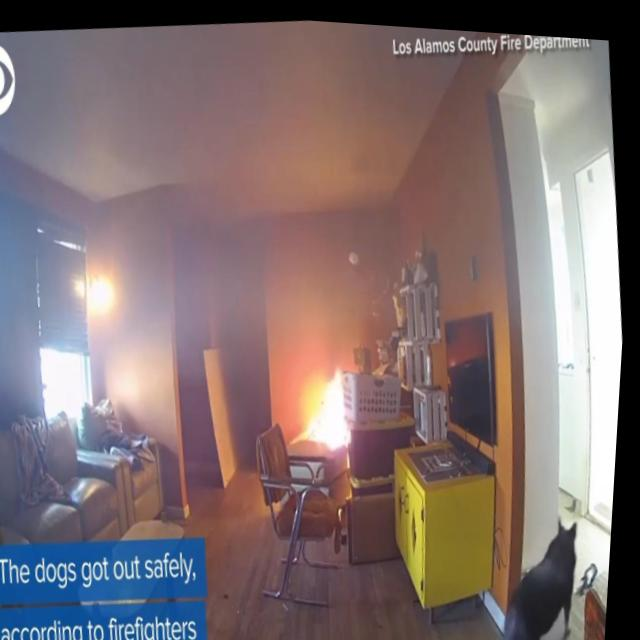fire: (295, 350, 360, 447)
